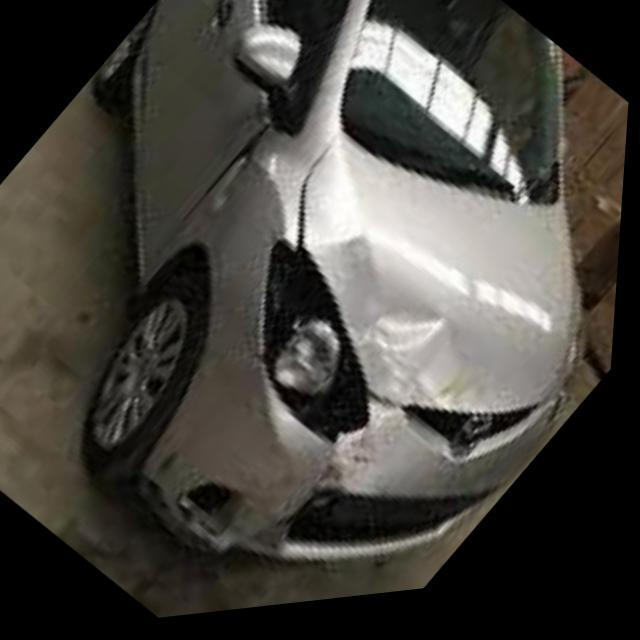dent: (151, 236, 466, 570), (172, 134, 276, 242)
